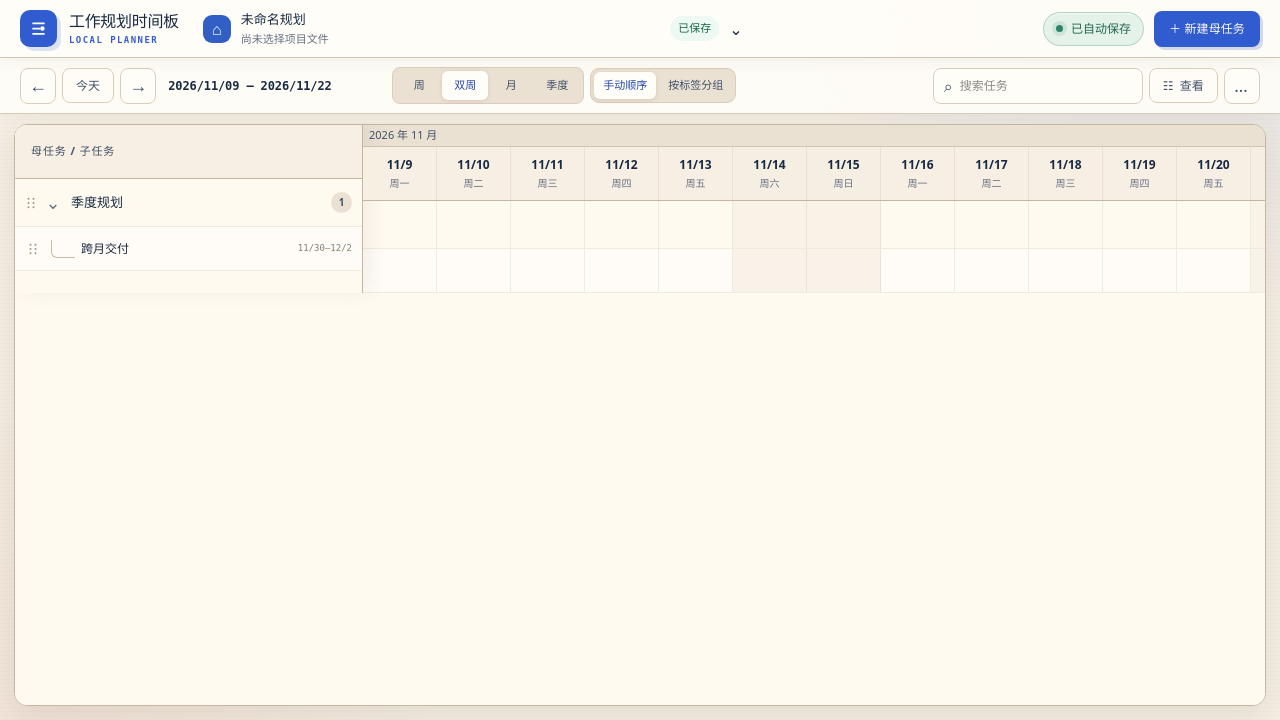
Test: quarter overview integration › shows a rolling quarter and keeps existing task editing/date data
This screenshot has width=1280, height=720.
Expected: the button "季度规划" is shown, [67,188,331,217]
Expected: the element named "视图模式" is shown, [392,67,584,104]
Step 1. Click the button "季度" → (557,86), box [534,71,580,100]
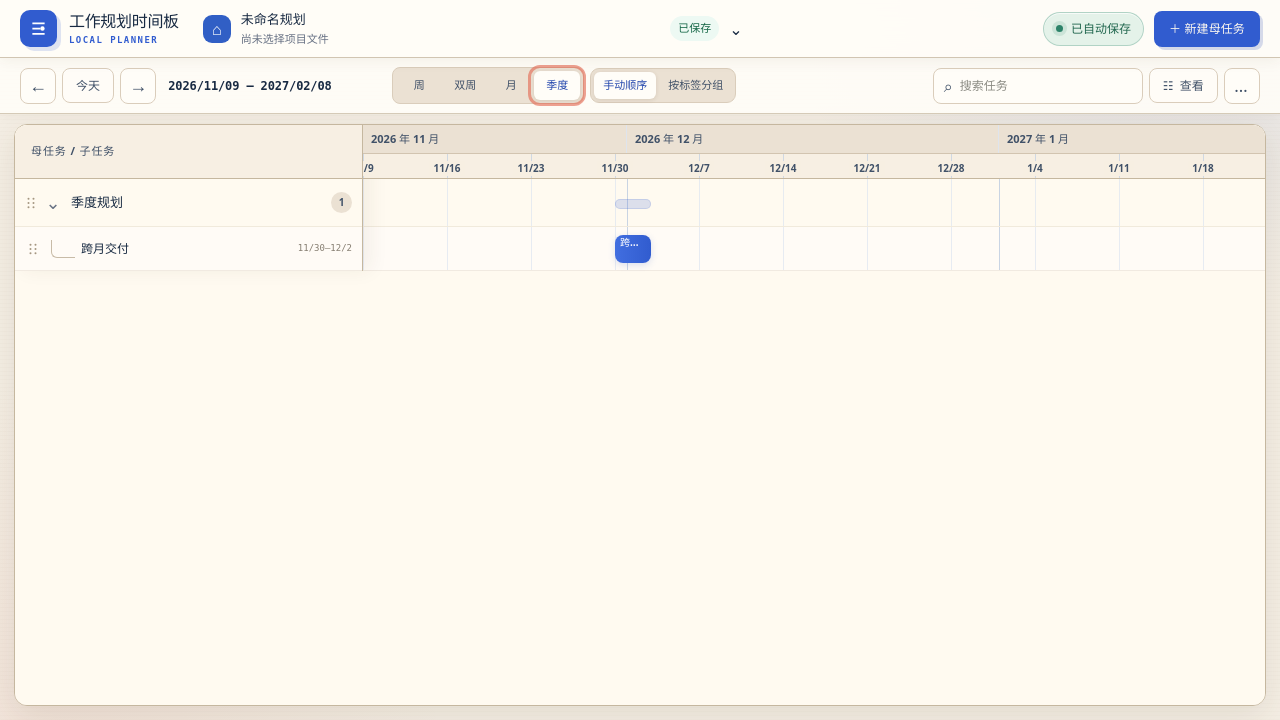
Result: no elements with class "date-cell" are shown
Step 2. Click the button "跨月交付" below "11/9" → (633,248), box [615,227,651,270]
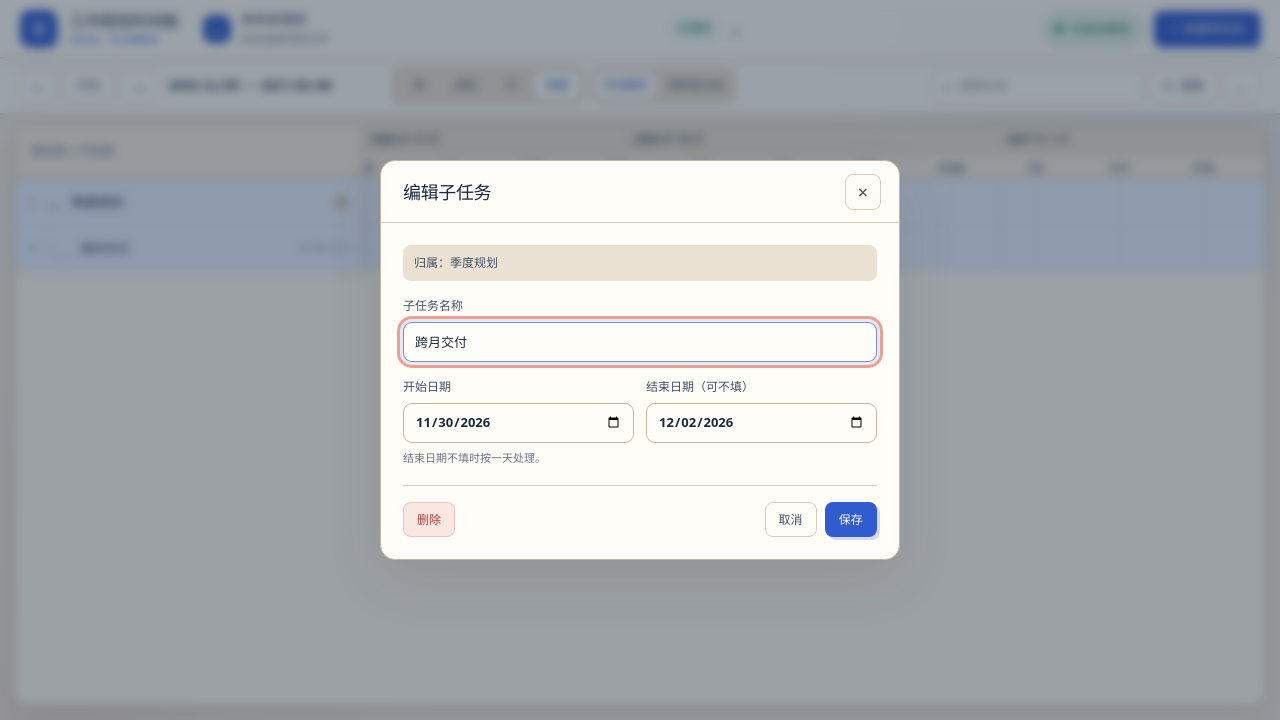
Result: the heading "编辑子任务" is shown at [403,179,491,206]
Result: the date field labelled "开始日期" holds "2026-11-30" at [403,403,634,443]
Result: the date field labelled "结束日期（可不填）" holds "2026-12-02" at [646,403,877,443]
Step 3. Click the button "取消" → (791,520), box [764,502,817,537]
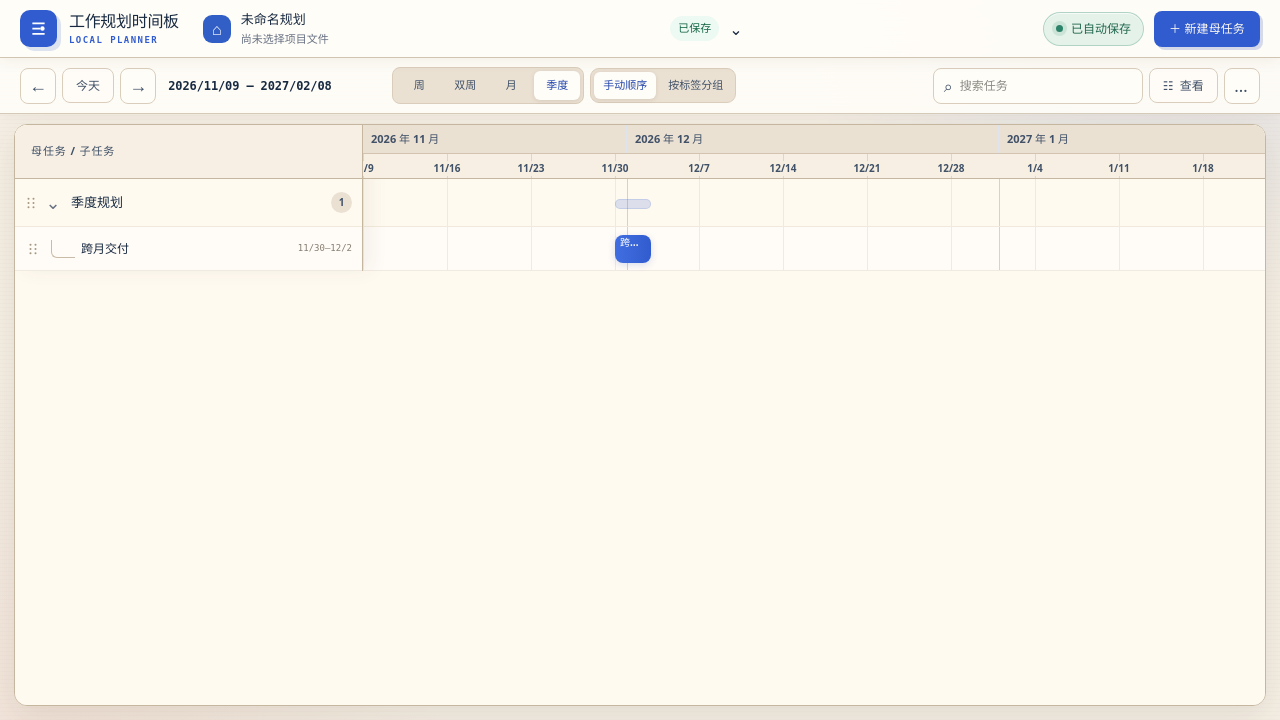
Step 4. Click the button "月" → (511,86), box [488,71,534,100]
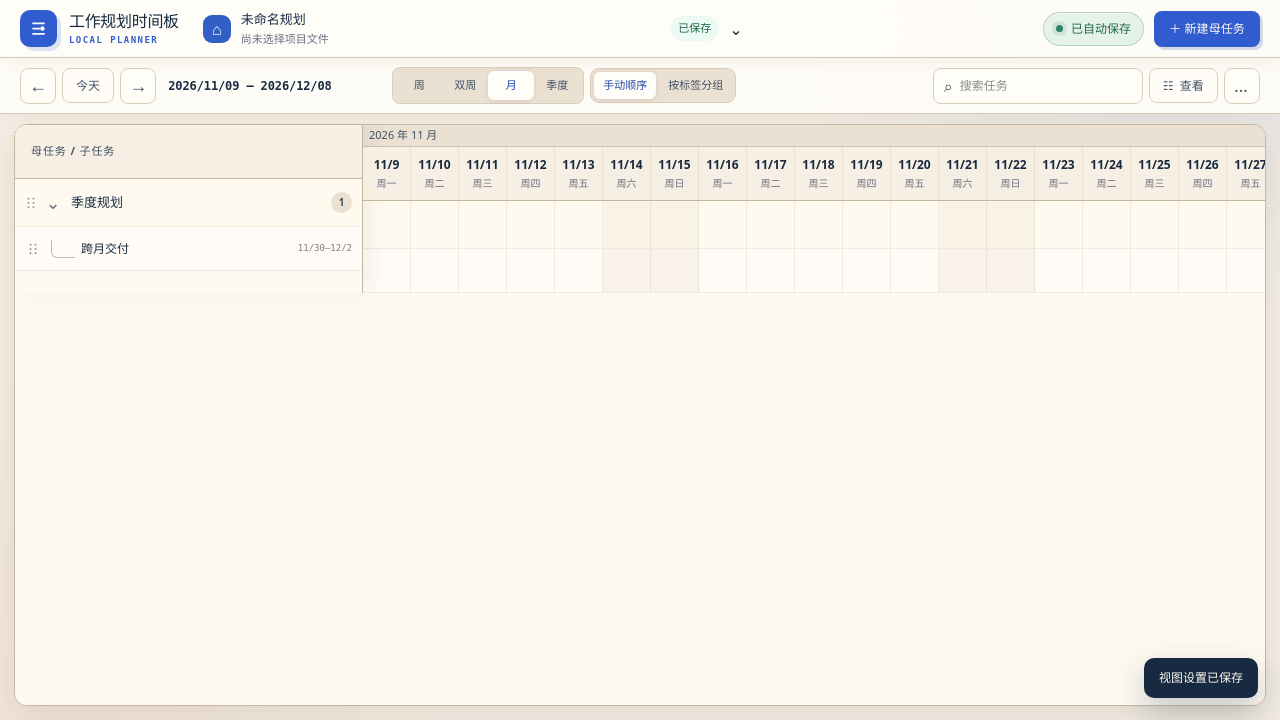
Result: the header with test id "quarter-timeline-header" is gone
